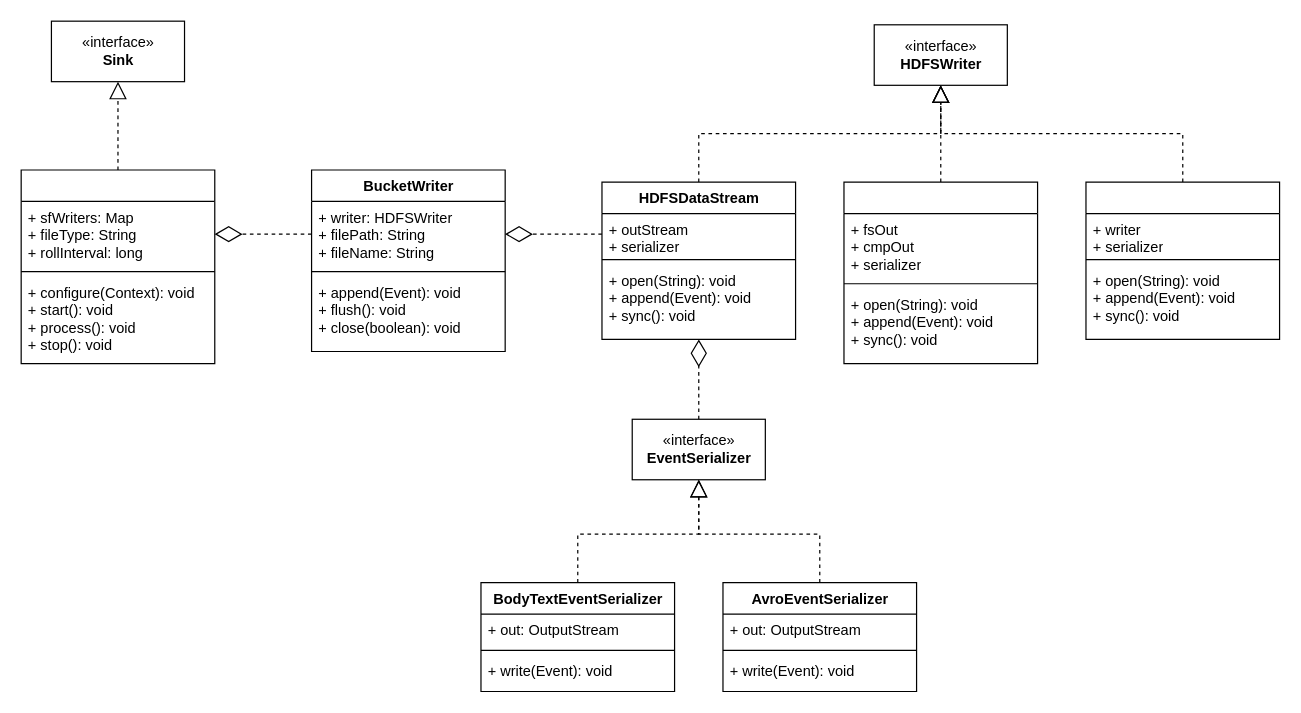
This 1301x713 diagram has some shape labels left out. The box of each missing label's shape, as (x1, y1, x2, y2) in pixels:
HDFSCompressedDS: (843, 181, 1038, 364)
HDFSEventSink: (20, 169, 215, 364)
HDFSSequenceFile: (1085, 181, 1280, 339)
